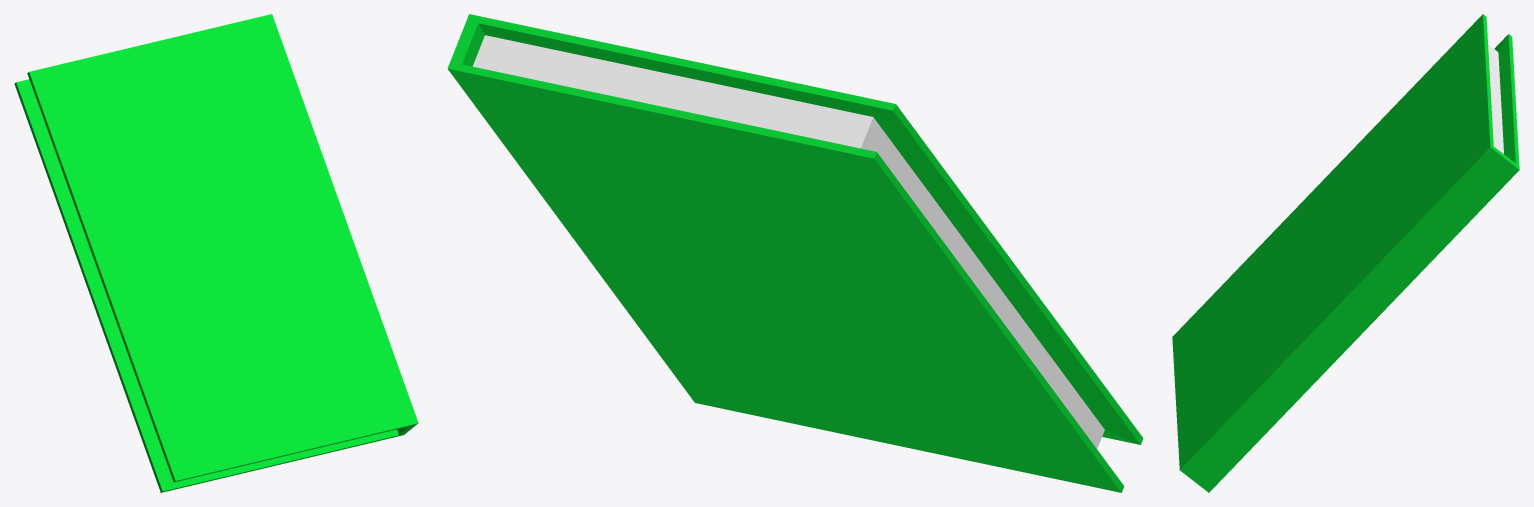
The model's file is LibroVerde.fbx.
3 renders of one model, left to right at view 1: azimuth 30°, elevation 25°; view 2: azimuth 150°, elevation 25°; view 3: azimuth 270°, elevation 25°, orthographic. The views are drawn at different scales.
Visible parts, largest first — view 1: Cubo.1930; view 2: Cubo.1930; view 3: Cubo.1930.
Part boxes in pixels (x1=…): Cubo.1930: x1=14, y1=14, x2=418, y2=492; Cubo.1930: x1=447, y1=14, x2=1143, y2=492; Cubo.1930: x1=1172, y1=14, x2=1519, y2=492.
Bounding box in the file's own units: 17.7 × 22.43 × 20.13.
